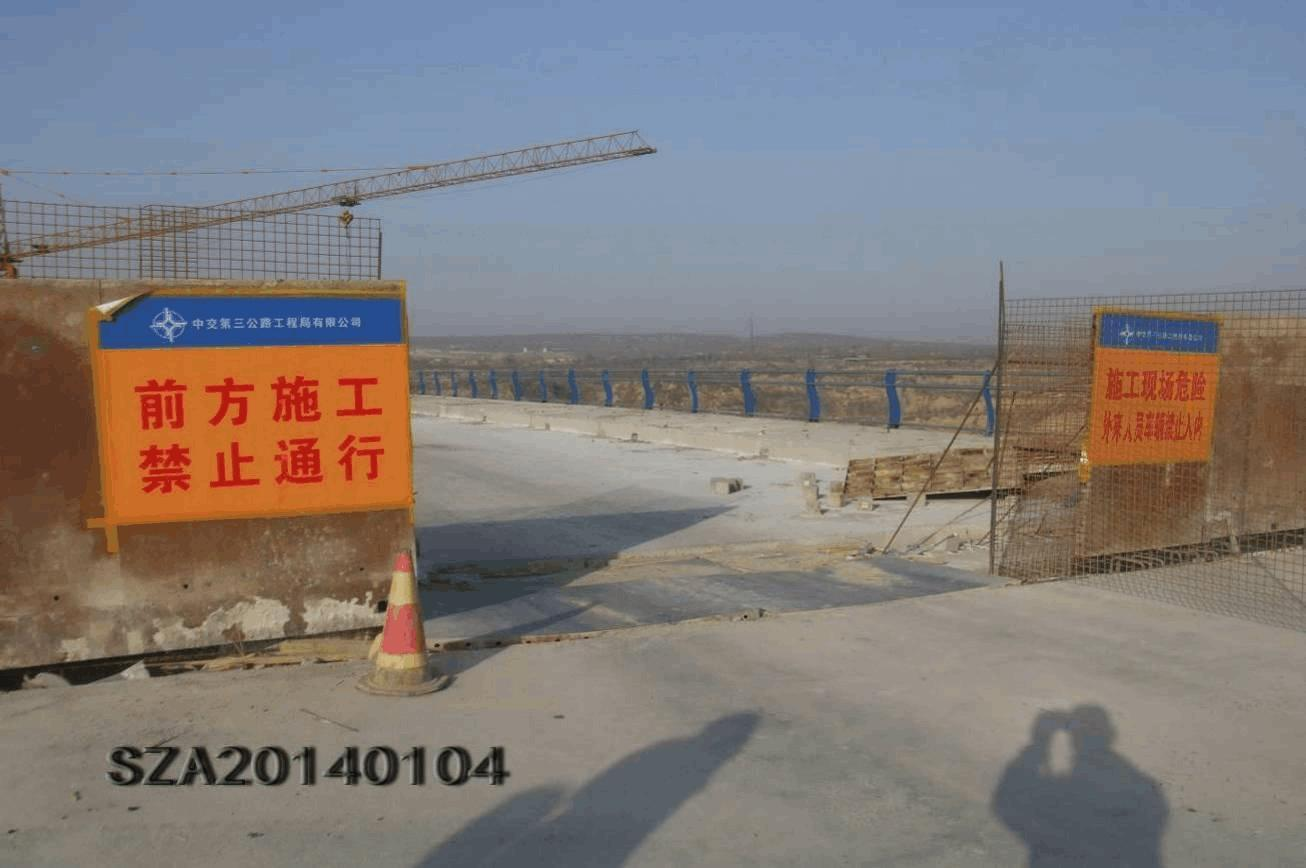sign: (98, 354, 407, 496), (1101, 357, 1214, 450)
